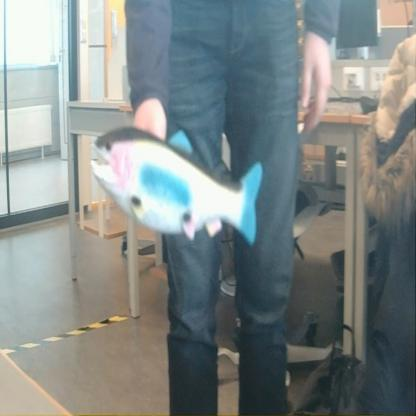rubberfish: (88, 119, 265, 251)
